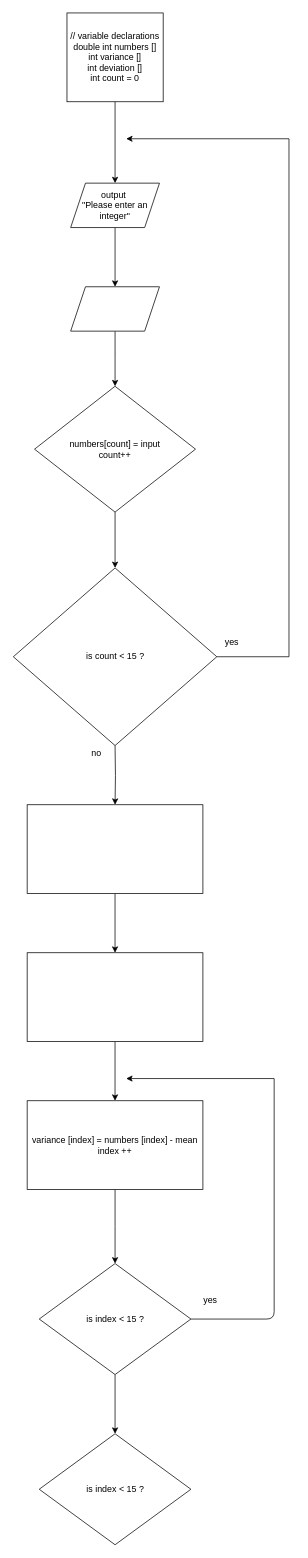
The diagram is 308 pixels wide and 1558 high, and some of its shapes have lost their labels. The centre of each missing label's shape, as x and y in pixels:
"index = 0" belongs at pixel 114 997.
"input item" belongs at pixel 114 308.
"sum += numbers [] / 15 = mean" belongs at pixel 114 849.
